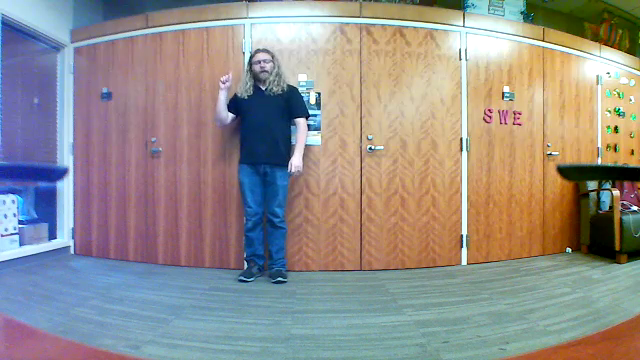up: (217, 66, 234, 93)
